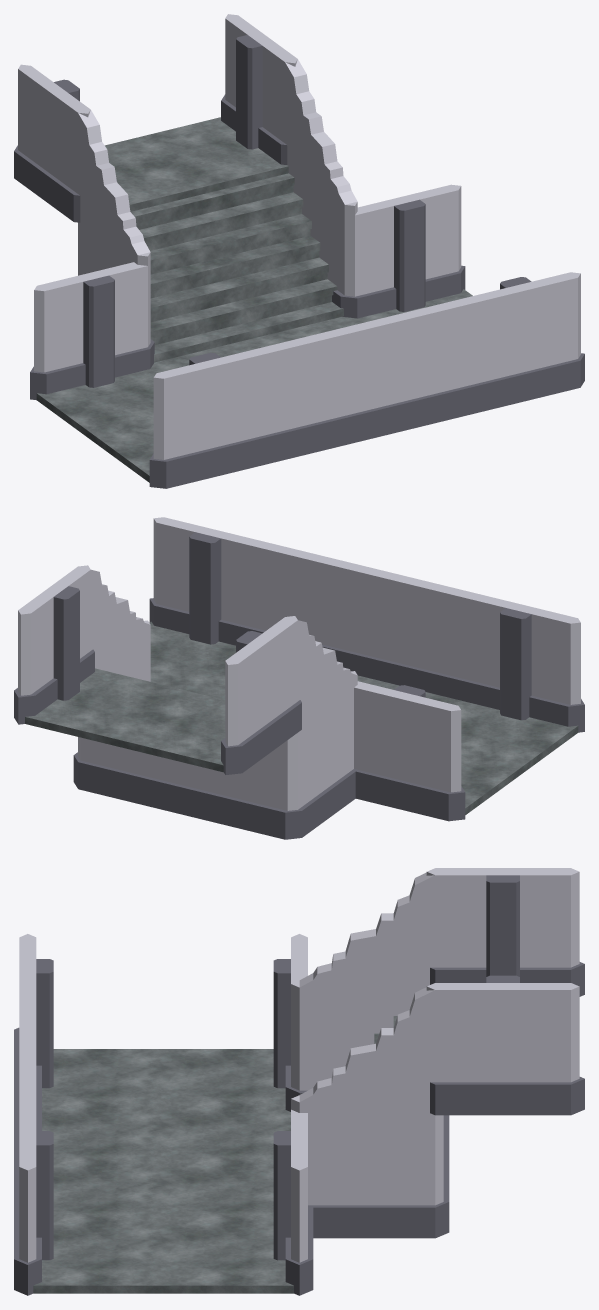
File: intersection_3way_stair_01.fbx
3 views of the same model, one above another, from view 1: azimuth 30°, elevation 25°; view 2: azimuth 150°, elevation 25°; view 3: azimuth 270°, elevation 25° (orthographic). The views are drawn at different scales.
Visible parts, largest first — view 1: stairs_01_9, wall_02_5, wall_02_3, wall_02_4, wall_02_6, wall_01_8, wall_01_7, floor_04_10, wall_02_12, wall_02_11, floor_04_2, floor_01_0; view 2: stairs_01_9, wall_02_4, wall_02_5, wall_02_6, floor_04_10, wall_01_8, wall_02_12, wall_01_7, wall_02_11, floor_04_2, floor_04_1, floor_01_0; view 3: stairs_01_9, floor_01_0, wall_02_11, wall_02_12, floor_04_1, floor_04_2, wall_02_6, wall_02_3, wall_02_5, wall_02_4, wall_01_8, wall_01_7.
Part boxes in pixels (x1,y1,x2,y2): stairs_01_9: [78, 58, 358, 366]; wall_02_5: [149, 348, 270, 488]; wall_02_3: [340, 184, 465, 318]; wall_02_4: [30, 262, 153, 400]; wall_02_6: [464, 272, 584, 412]; wall_01_8: [260, 323, 374, 463]; wall_01_7: [361, 297, 477, 438]; floor_04_10: [105, 117, 288, 211]; wall_02_12: [14, 64, 90, 222]; wall_02_11: [221, 14, 297, 164]; floor_04_2: [36, 365, 156, 482]; floor_01_0: [144, 317, 369, 377]; stairs_01_9: [73, 566, 357, 839]; wall_02_4: [354, 681, 465, 821]; wall_02_5: [463, 593, 584, 732]; wall_02_6: [149, 517, 269, 645]; floor_04_10: [25, 668, 225, 772]; wall_01_8: [360, 567, 475, 701]; wall_02_12: [221, 616, 301, 774]; wall_01_7: [257, 542, 373, 675]; wall_02_11: [14, 565, 94, 724]; floor_04_2: [461, 703, 578, 814]; floor_04_1: [149, 621, 235, 692]; floor_01_0: [193, 668, 470, 709]; stairs_01_9: [285, 868, 449, 1238]; floor_01_0: [42, 1106, 290, 1228]; wall_02_11: [426, 975, 584, 1115]; wall_02_12: [426, 868, 584, 996]; floor_04_1: [33, 1228, 293, 1293]; floor_04_2: [42, 1049, 290, 1113]; wall_02_6: [14, 1106, 53, 1295]; wall_02_3: [273, 1109, 313, 1295]; wall_02_5: [14, 934, 53, 1089]; wall_02_4: [273, 934, 307, 1111]; wall_01_8: [14, 991, 41, 1146]; wall_01_7: [14, 1051, 36, 1203].
Size of the model in its own units: 42.05 by 20 by 42.05.
